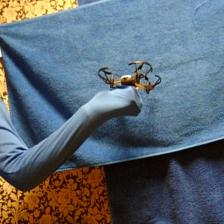drone: (97, 59, 163, 94)
